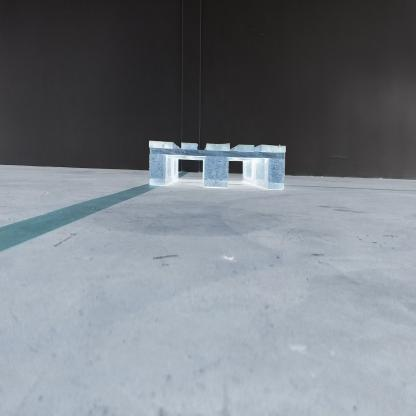BoxFace: (149, 131, 287, 194)
